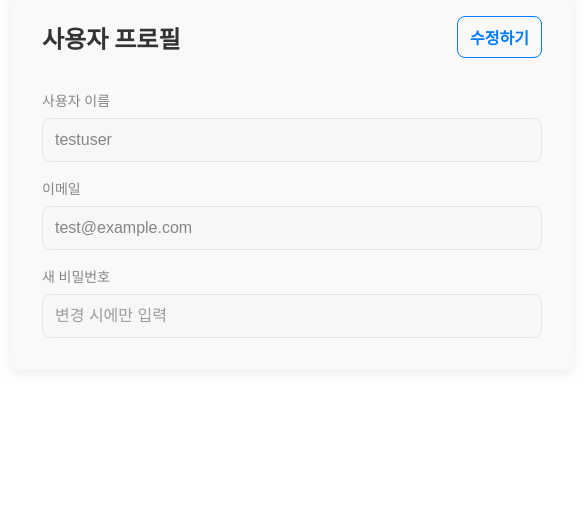
it: UserProfileForm › 필수 필드가 비어 있으면 에러 메시지를 표시해야 합니다.
This screenshot has width=585, height=509.
Click the button "수정하기": (500, 37) [457,16,542,58]
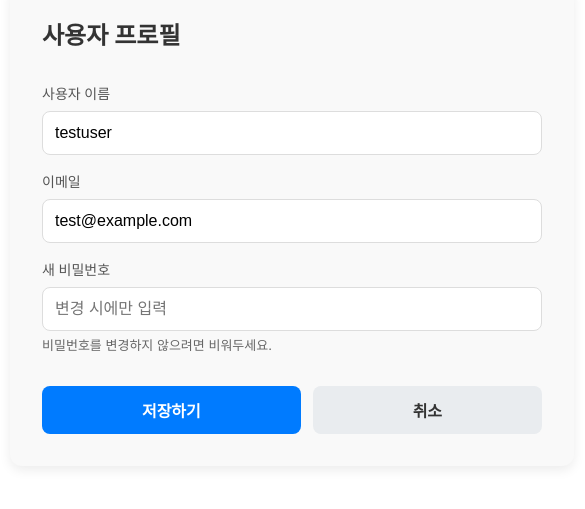
Clear the field labelled "사용자 이름": (292, 133) [42,111,542,155]
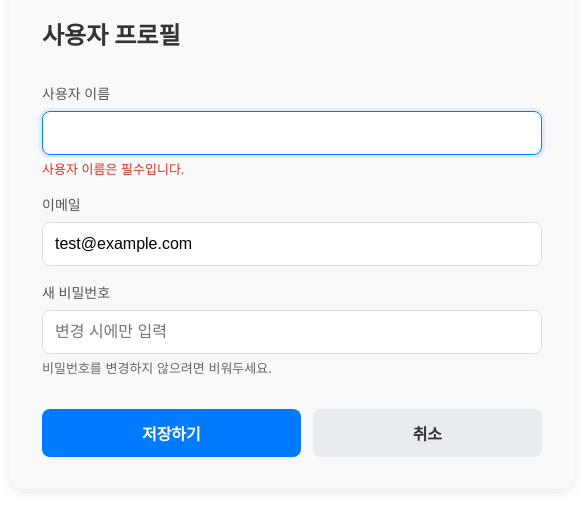
Now the text "사용자 이름은 필수입니다." is shown, box [42,161,185,177]
